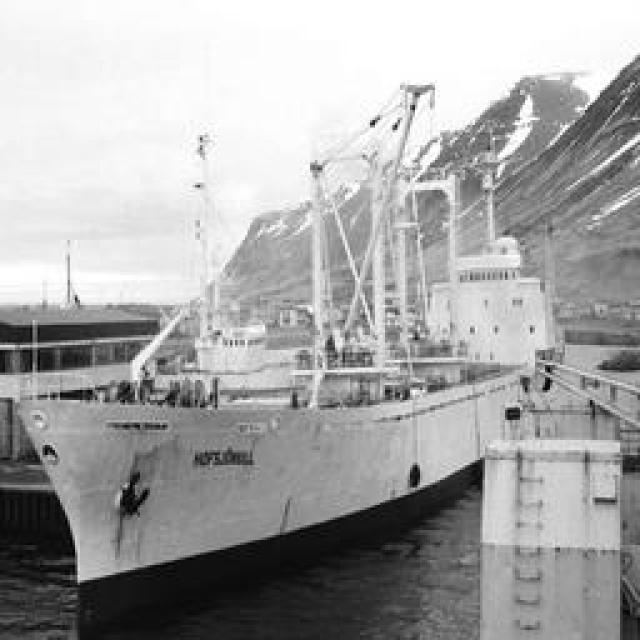Ship: (16, 101, 574, 614)
